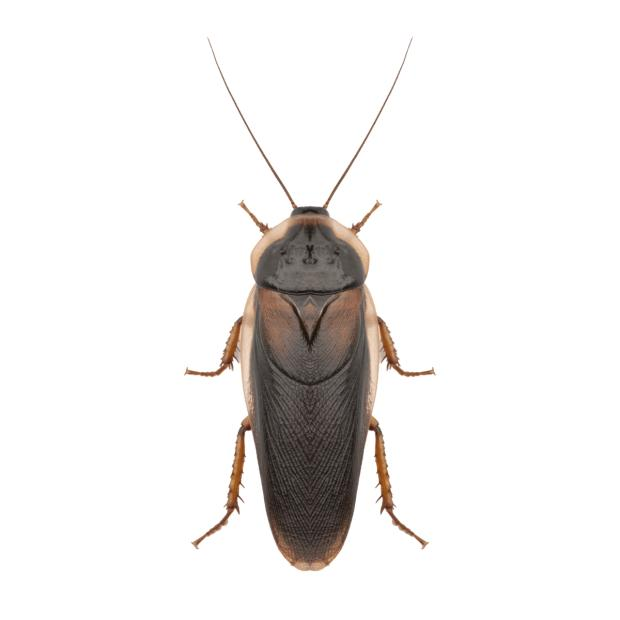cockroach: (219, 180, 399, 574)
